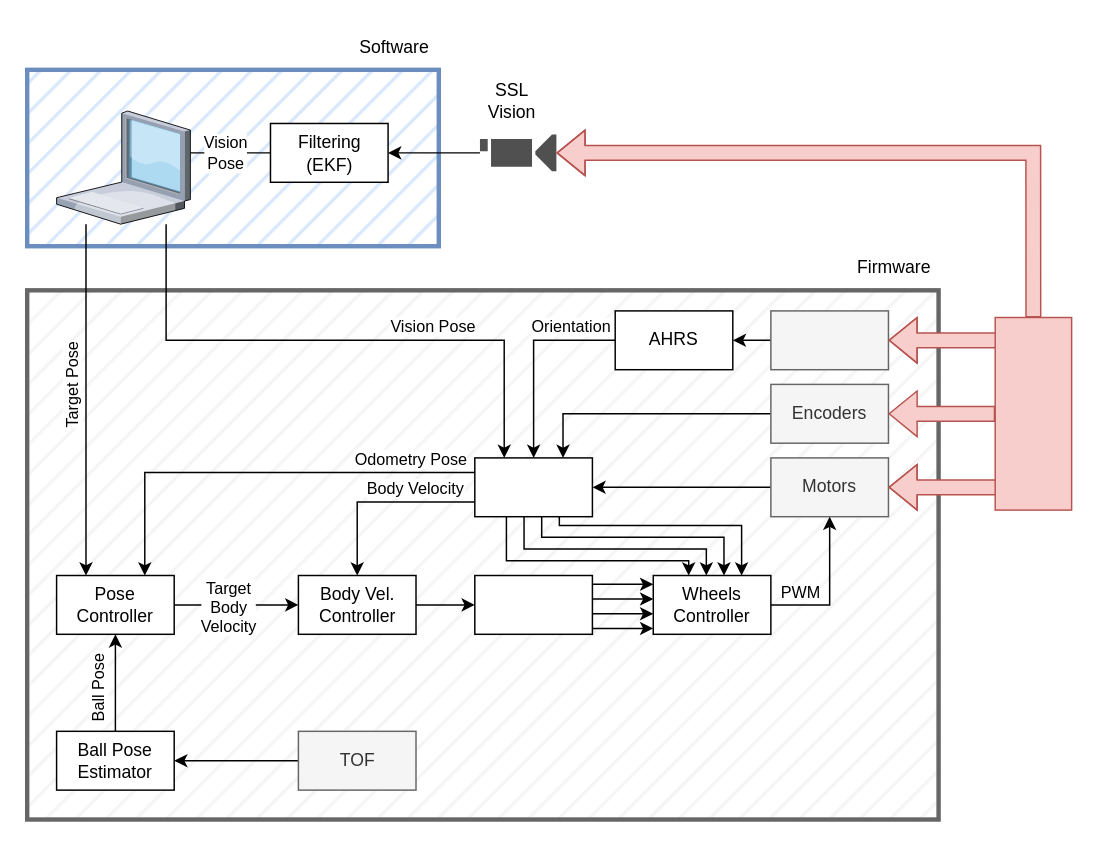
Image size: 1098x847. Some labels were removed from this diagram. The shapes that lost their labels are listed below. From the top down, each one's box as (x1, y1, x2, y2) in pixels, then its label:
(769, 309, 888, 370): IMU
(994, 316, 1072, 510): Movement
(473, 456, 592, 517): Sensor Fusion
(473, 574, 592, 634): Inv. Kinematics
